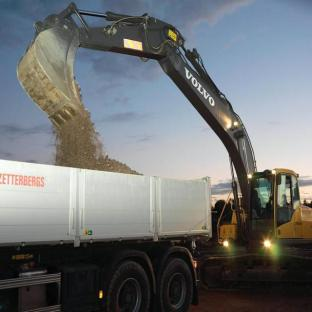ExcavationMachinery: (18, 20, 312, 273)
Vehicle: (3, 151, 213, 310)
